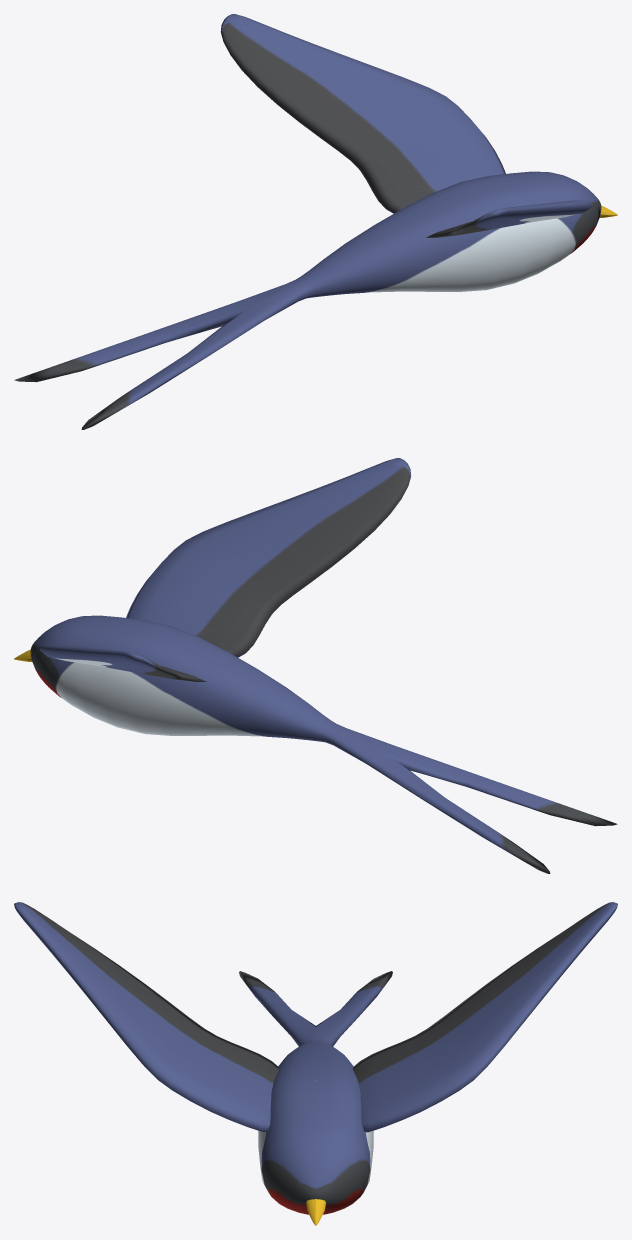
The model's file is Qaldirg'och.fbx.
3 renders of one model, top to bottom at view 1: azimuth 30°, elevation 25°; view 2: azimuth 150°, elevation 25°; view 3: azimuth 270°, elevation 25°, orthographic. The views are drawn at different scales.
Visible parts, largest first — view 1: Plane, Plane.001; view 2: Plane, Plane.001; view 3: Plane.001, Plane.
Part boxes in pixels (box(x1,y1,x2,y2)): Plane: box(14, 171, 601, 429); Plane.001: box(220, 14, 591, 237); Plane: box(30, 615, 617, 873); Plane.001: box(40, 458, 411, 681); Plane.001: box(14, 902, 617, 1132); Plane: box(239, 971, 392, 1214).
Bounding box in the file's own units: 0.2442 × 0.0883 × 0.1999.
Materials: 4 (2 with a texture image).
